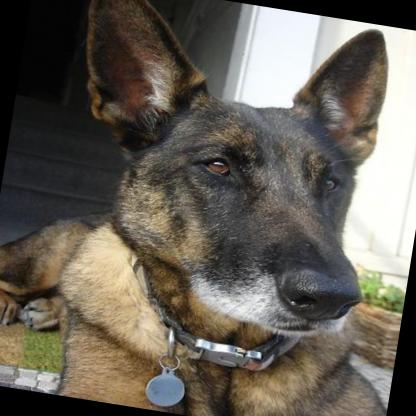malinois: (25, 0, 409, 416)
